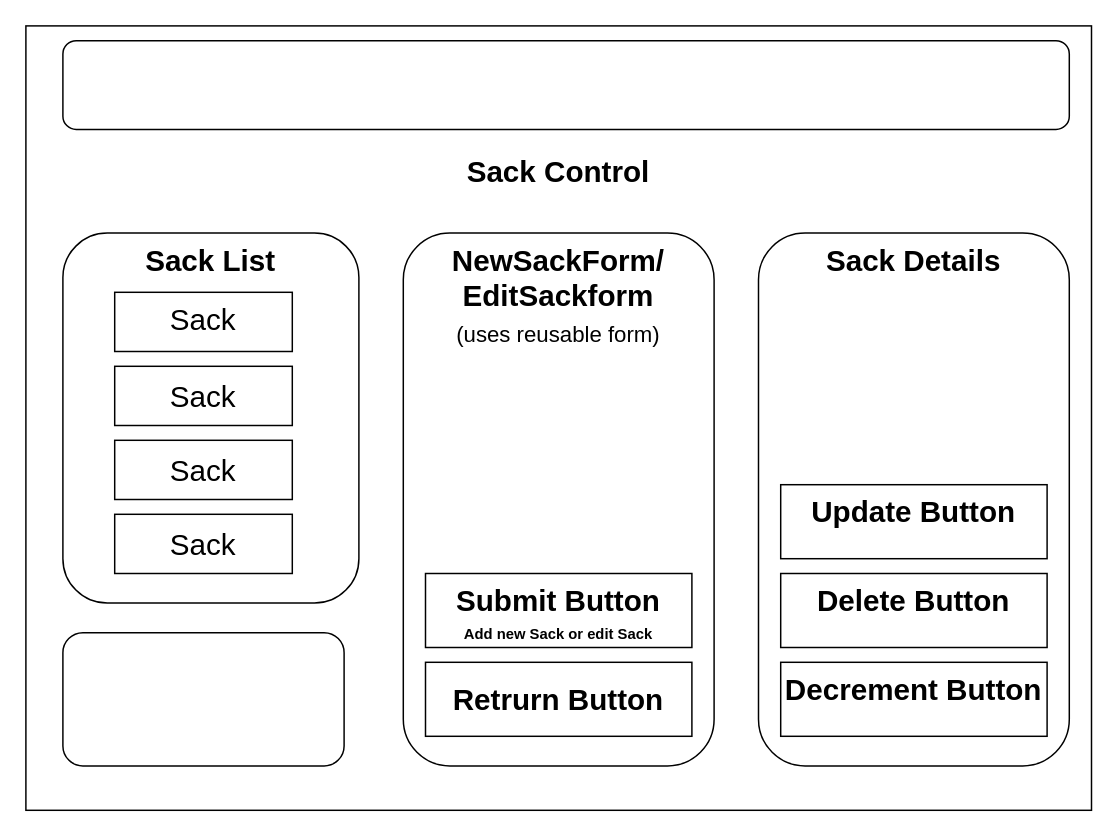
Image size: 1117x836. Some labels were removed from this diagram. The shapes that lost their labels are listed below. From the top down, each one's centre as x and y in pixels, then its label:
pixel 565 84: Header
pixel 202 698: Add Sack Button This button will show new sack form
